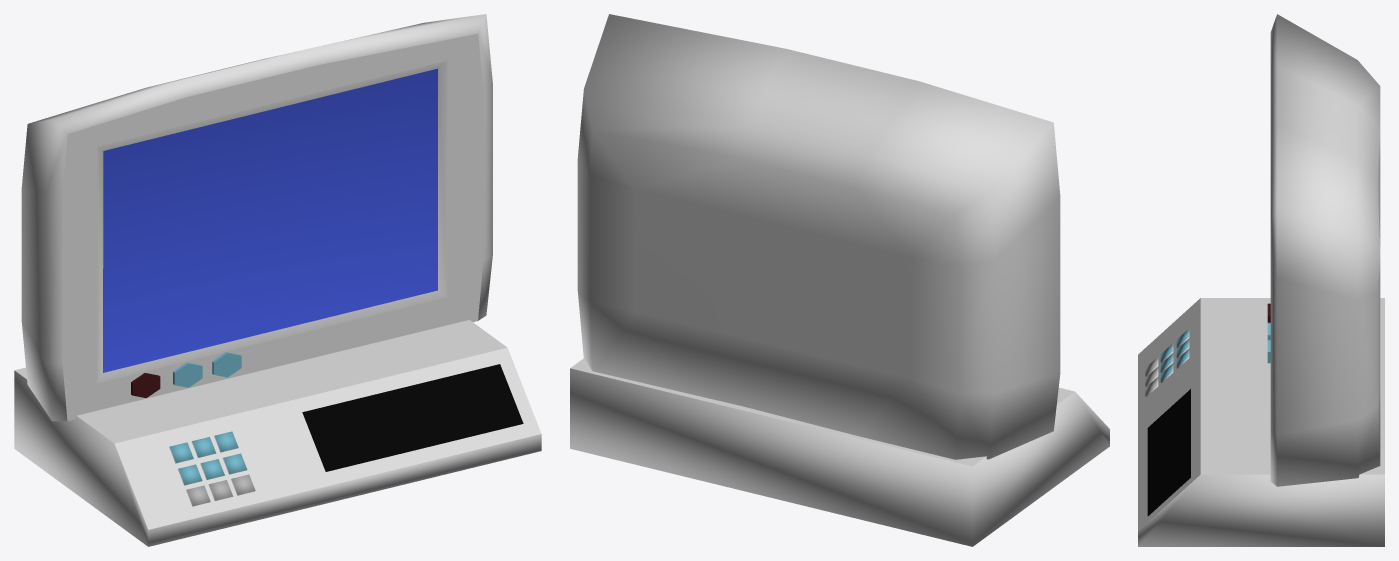
Rendered from cardiac_monitor.dae.
3 renders of one model, left to right at view 1: azimuth 30°, elevation 25°; view 2: azimuth 150°, elevation 25°; view 3: azimuth 270°, elevation 25°, orthographic. The views are drawn at different scales.
Parts seen in each view (by area): view 1: Cardiac Monitor; view 2: Cardiac Monitor; view 3: Cardiac Monitor.
Part boxes in pixels (<box>): Cardiac Monitor: <box>14,14,541,546</box>; Cardiac Monitor: <box>570,14,1109,546</box>; Cardiac Monitor: <box>1138,14,1384,546</box>.
Size of the model in its own units: 0.5269 by 0.2733 by 0.4334.
